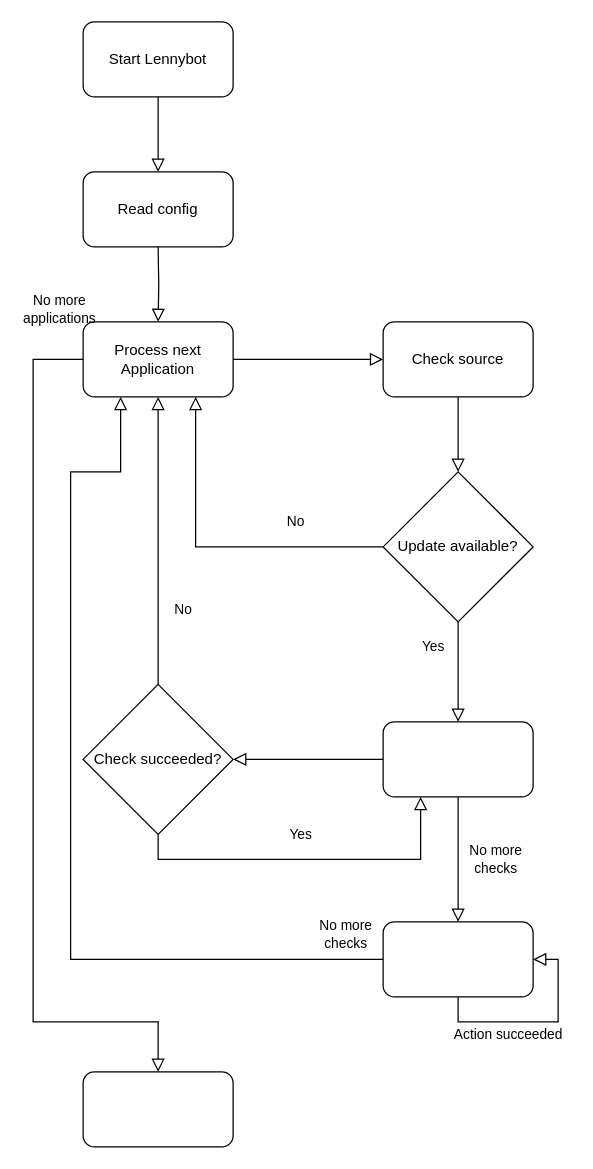
Some shapes in this 593 by 1169 pixel diagram are drawn without their labels. The shapes that lost their labels are listed below. From the top down, each one's centre as x and y in pixels, then its label:
At (x=457, y=759): "Execute next check".
At (x=457, y=959): "Execute next action".
At (x=157, y=1109): "Exit Lennybot".
